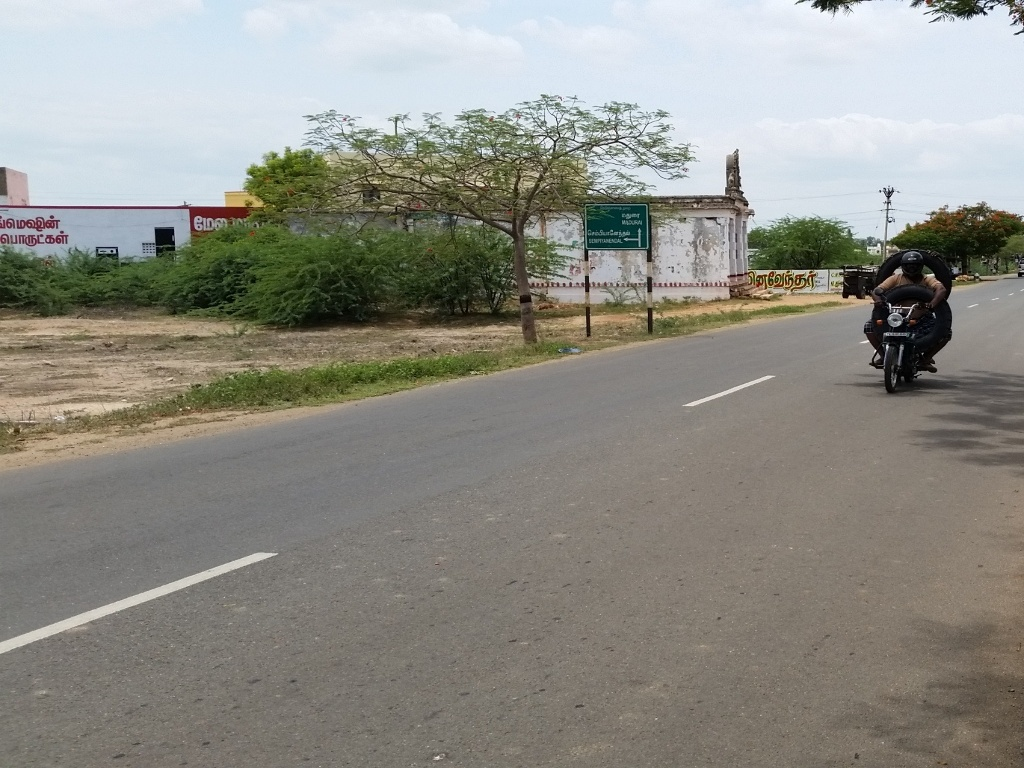biker: (845, 215, 980, 405)
helmet: (896, 246, 929, 284)
